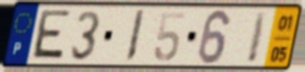3: (69, 9, 103, 62)
5: (152, 10, 188, 63)
6: (196, 7, 233, 66)
E: (28, 8, 73, 63)
I: (245, 10, 270, 66), (123, 8, 147, 64)
